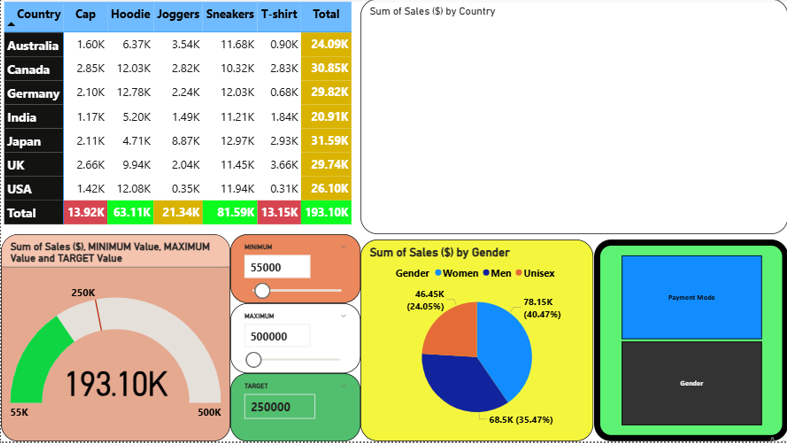

This screenshot's page, from the dashboard's own definition file:
{"tool":"powerbi","page":{"name":"Page 2","canvas":[1280,720],"ordinal":1},"visuals":[{"type":"pivotTable","fields":{"Values":["Sum(sneakers_streetwear_sales_data.Sales ($))"],"Columns":["sneakers_streetwear_sales_data.Product Type"],"Rows":["sneakers_streetwear_sales_data.Country"]},"box":[0,0,584.6,383],"z":0},{"type":"gauge","fields":{"Y":["Sum(sneakers_streetwear_sales_data.Sales ($))"],"MinValue":["MINIMUM.MINIMUM Value"],"MaxValue":["MAXIMUM.MAXIMUM Value"],"TargetValue":["TARGET.TARGET Value"]},"box":[0,383,373,337],"z":1000},{"type":"slicer","fields":{"Values":["MINIMUM.MINIMUM"]},"box":[373,383,211.7,112.3],"z":2000},{"type":"slicer","fields":{"Values":["MAXIMUM.MAXIMUM"]},"box":[373,495.4,211.7,113.8],"z":3000},{"type":"slicer","fields":{"Values":["TARGET.TARGET"]},"box":[373,609.1,211.7,110.9],"z":4000},{"type":"map","fields":{"Category":["sneakers_streetwear_sales_data.Country"],"Size":["Sum(sneakers_streetwear_sales_data.Sales ($))"]},"box":[584.6,0,695.5,383],"z":5000},{"type":"pieChart","fields":{"Category":["sneakers_streetwear_sales_data.Gender"],"Y":["Sum(sneakers_streetwear_sales_data.Sales ($))"]},"box":[584.6,383,380.2,337],"z":6000},{"type":"slicer","fields":{"Values":["METRIC.METRIC"]},"box":[964.8,383,315.4,337],"z":7000}]}

Visuals, with their boxes in screenshot pixels (x1, y1, x2, y2), scaled from the page's 1280x720 canvas onto the 787x443 screenshot:
pivotTable - Sum(sneakers_streetwear_sales_data.Sales ($)) x sneakers_streetwear_sales_data.Product Type: l=0, t=0, r=359, b=236
gauge - Sum(sneakers_streetwear_sales_data.Sales ($)) x MINIMUM.MINIMUM Value: l=0, t=236, r=229, b=442
slicer - MINIMUM.MINIMUM: l=229, t=236, r=359, b=305
slicer - MAXIMUM.MAXIMUM: l=229, t=305, r=359, b=375
slicer - TARGET.TARGET: l=229, t=375, r=359, b=442
map - sneakers_streetwear_sales_data.Country x Sum(sneakers_streetwear_sales_data.Sales ($)): l=359, t=0, r=786, b=236
pieChart - sneakers_streetwear_sales_data.Gender x Sum(sneakers_streetwear_sales_data.Sales ($)): l=359, t=236, r=593, b=442
slicer - METRIC.METRIC: l=593, t=236, r=786, b=442
